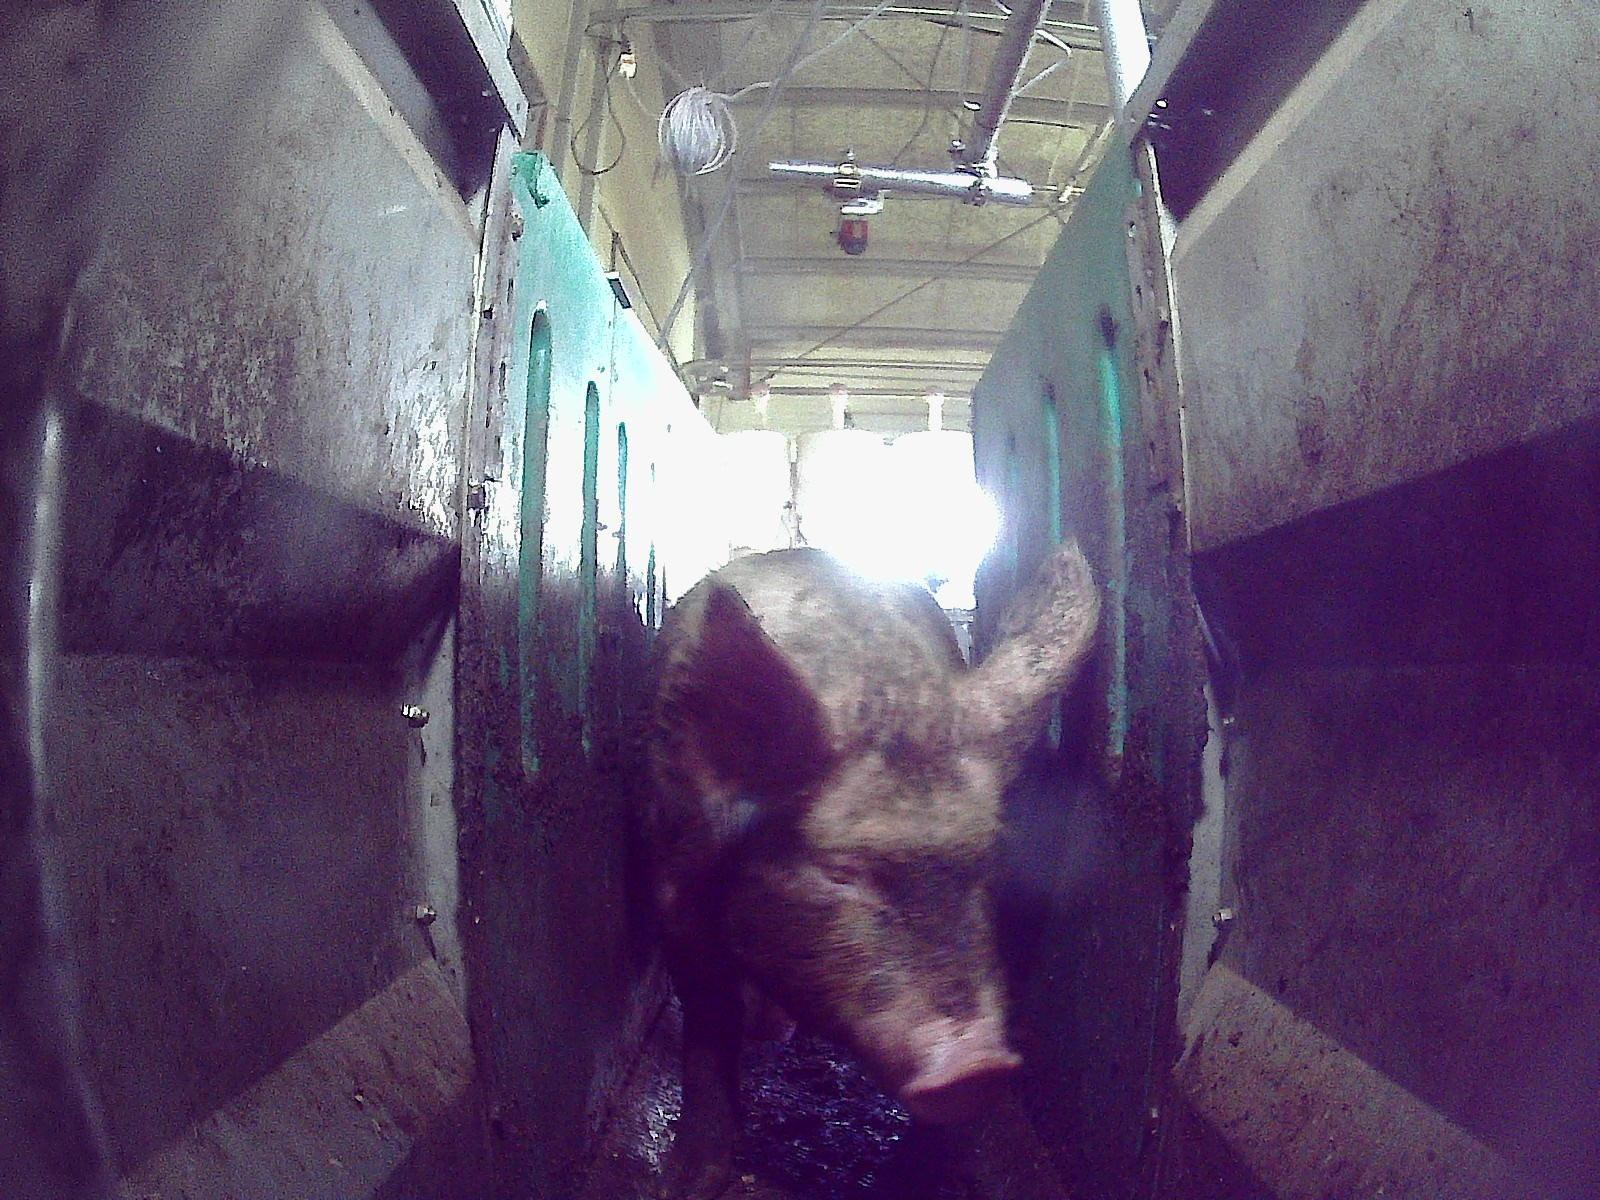Face: (726, 639, 1027, 1124)
